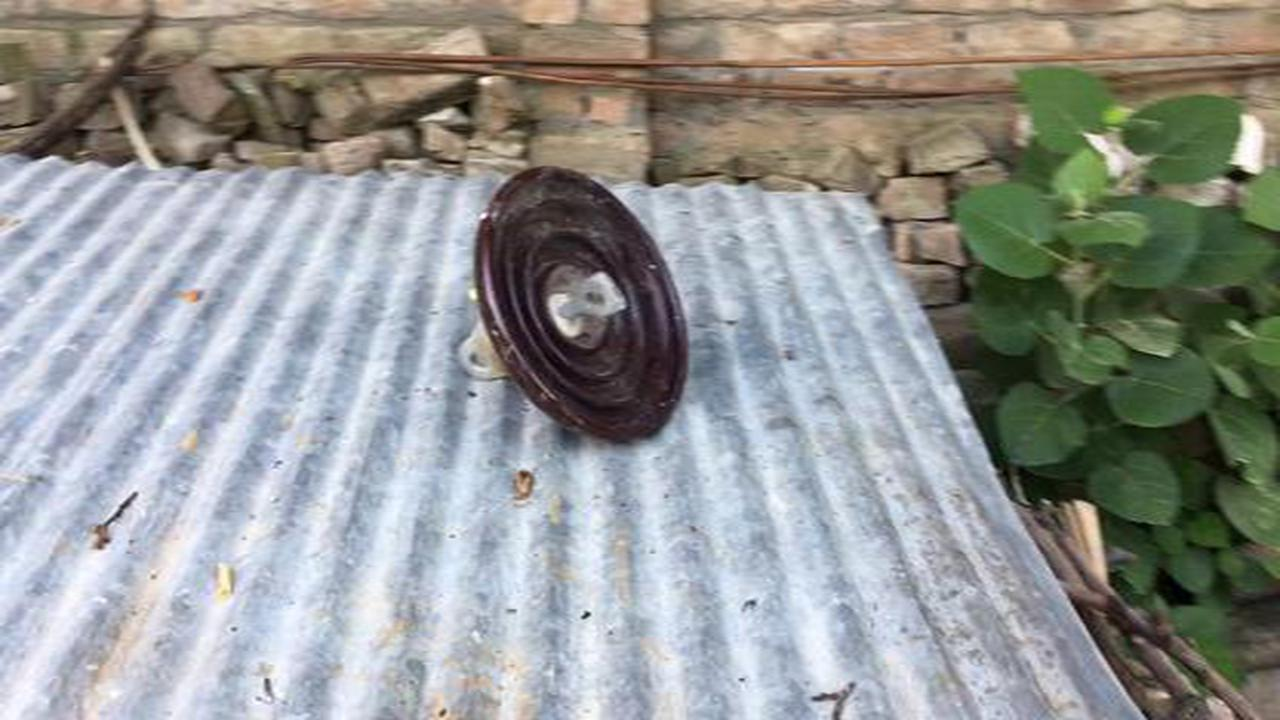insulator_disc: (458, 159, 693, 449)
